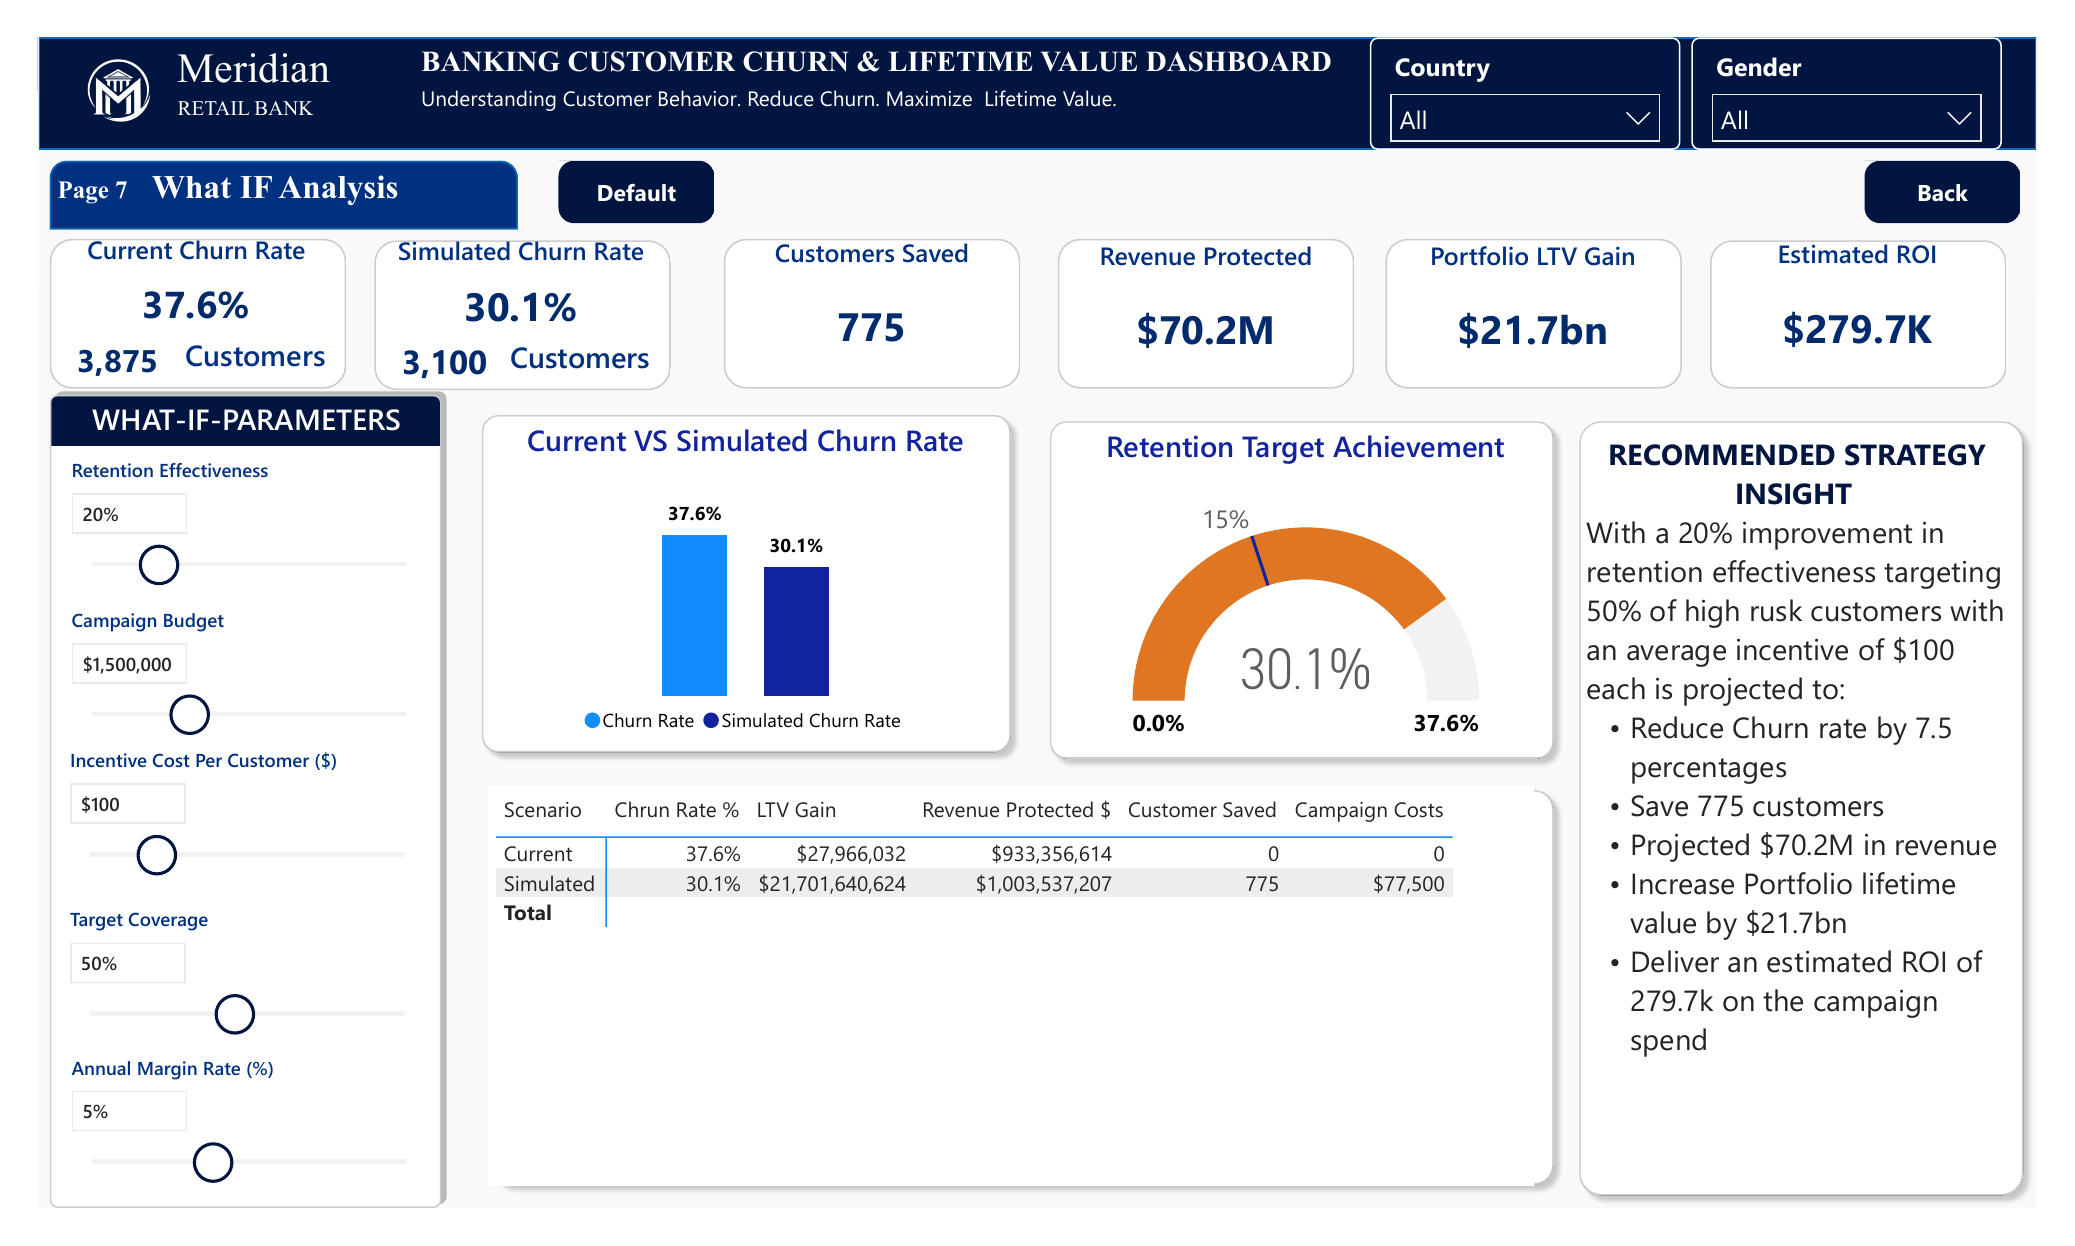

What the dashboard file says about the page in this screenshot:
{"tool":"powerbi","page":{"name":"What If Analysis","canvas":[1280,750],"ordinal":6},"visuals":[{"type":"shape","box":[885.2,237.8,382.5,472],"z":0},{"type":"shape","box":[0,0,1279.9,750],"z":1000},{"type":"shape","title":"WHAT-IF-PARAMETERS","box":[7.5,228.5,250.9,521.5],"z":2000},{"type":"shape","box":[7.2,129,189.9,95.8],"z":2001,"group":"g1"},{"type":"shape","box":[214.6,129.9,189.9,95.8],"z":2001,"group":"g2"},{"type":"cardVisual","title":"   Current Churn Rate ","fields":{"Data":["All Dax.Churn Rate","All Dax.Churned Customers"]},"box":[7.9,125,186.3,103],"z":2012,"group":"g1"},{"type":"cardVisual","title":"Simulated Churn Rate ","fields":{"Data":["What IF DAX.Simulated Churn Rate","What IF DAX.Simulated Churned Customers"]},"box":[215.3,125.9,186.3,103],"z":2012,"group":"g2"},{"type":"shape","box":[0,0,1279.7,71.6],"z":3000},{"type":"shape","box":[7.2,78.8,300,43.9],"z":4000},{"type":"cardVisual","fields":{"Data":["All Dax.Churned"]},"box":[482.7,129,170.1,95.8],"z":5000},{"type":"cardVisual","fields":{"Data":["All Dax.Churned"]},"box":[482.7,129,170.1,95.8],"z":6000},{"type":"shape","box":[438.8,129,189.9,95.8],"z":7000},{"type":"shape","box":[652.8,129,189.9,95.8],"z":8000},{"type":"shape","box":[863.3,129,189.9,95.8],"z":9000},{"type":"cardVisual","title":"Customers Saved","fields":{"Data":["What IF DAX.Customers Saved"]},"box":[438.8,127.2,189.9,95.8],"z":10000},{"type":"cardVisual","title":"Revenue Protected","fields":{"Data":["What IF DAX.Revenue Protected"]},"box":[652.8,129,189.9,95.8],"z":11000},{"type":"cardVisual","title":"Portfolio LTV Gain","fields":{"Data":["What IF DAX.Portfolio LTV Gain"]},"box":[862.9,128.7,189.4,96.1],"z":12000},{"type":"textbox","box":[7.2,78.8,287.5,43.9],"z":13000},{"type":"textbox","box":[240,0,613.4,35.8],"z":16000},{"type":"textbox","box":[240,25.1,615.2,35.8],"z":17000},{"type":"image","box":[0,0,102.1,71.6],"z":18000},{"type":"textbox","box":[84.2,0,130.7,71.6],"z":19000},{"type":"actionButton","box":[333.1,78.8,100,40],"z":21000},{"type":"actionButton","box":[1169.8,79,100.1,39.5],"z":22000},{"type":"slicer","fields":{"Values":["Retention Effectiveness.Retention Effectiveness"]},"box":[8.1,264.2,249.9,95.8],"z":23000},{"type":"slicer","fields":{"Values":["Campaign Budget.Campaign Budget"]},"box":[8.1,360,249.9,95.8],"z":24000},{"type":"slicer","fields":{"Values":["Target Coverage.[Target Coverage"]},"box":[7.2,551.6,249.9,95.8],"z":25000},{"type":"slicer","fields":{"Values":["Annual Margin Rate (%).Annual Margin Rate (%)"]},"box":[8.4,647.4,249.9,95.8],"z":26000},{"type":"slicer","fields":{"Values":["Incentive Cost Per Customer ($).Incentive Cost Per Customer ($)"]},"box":[7.5,449.6,249.9,95.8],"z":27000},{"type":"group","id":"g1","title":"Group 3","box":[7.2,125,189.9,103],"z":28000},{"type":"group","id":"g2","title":"Group 3","box":[214.6,125.9,190.3,102.6],"z":29000},{"type":"cardVisual","fields":{"Data":["What IF DAX.Portfolio LTV Gain"]},"box":[1070.9,129.7,189,95.8],"z":30000},{"type":"shape","box":[1070.9,129.7,189.9,95.8],"z":31000},{"type":"textbox","box":[89.6,185.6,104.5,36.4],"z":31000,"group":"g1"},{"type":"textbox","box":[297,186.5,104.5,36.4],"z":31000,"group":"g2"},{"type":"cardVisual","title":"Estimated ROI ","fields":{"Data":["What IF DAX.Estimated ROI"]},"box":[1070.9,127.8,189.4,96.1],"z":32000},{"type":"shape","box":[276.1,234.1,354.5,232.3],"z":33000},{"type":"clusteredColumnChart","title":"Current VS Simulated Churn Rate","fields":{"Y":["All Dax.Churn Rate","What IF DAX.Simulated Churn Rate"]},"box":[288.2,245.3,329.3,210.8],"z":34000},{"type":"shape","box":[639.9,237.9,338.6,232.3],"z":35000},{"type":"gauge","title":"Retention Target Achievement","fields":{"MaxValue":["All Dax.Churn Rate"],"TargetValue":["What IF DAX.Target Churn Rate"],"Y":["What IF DAX.Simulated Churn Rate"]},"box":[653,249.1,318.1,210.8],"z":36000},{"type":"shape","box":[978.5,237.9,301.3,512.1],"z":37000},{"type":"shape","box":[281.7,473.9,696.8,269.6],"z":38000},{"type":"pivotTable","fields":{"Rows":["Scenario.Scenario"],"Values":["Scenario.Scenario Chrun Rate","Scenario.Scenario LTV","Scenario.Scenario Revenue","Scenario.Scenario Customer Saved","Scenario.Scenario C Cost"]},"box":[288.2,480.4,669.8,255.6],"z":39000},{"type":"textbox","box":[987.1,249,280,486.5],"z":40000},{"type":"slicer","fields":{"Values":["DimGender.Gender"]},"box":[1058.9,0,199,71.7],"z":40001},{"type":"slicer","fields":{"Values":["DimGeography.Country"]},"box":[853.4,0,198.8,71.6],"z":40002}]}

Visuals, with their boxes on the page's 1280x750 design canvas (x1, y1, x2, y2). These are canvas units, not pixel positions in the 2075x1246 screenshot, which may show the page scaled, cropped or inside an application window:
shape: {"left": 885, "top": 238, "right": 1268, "bottom": 710}
shape: {"left": 0, "top": 0, "right": 1280, "bottom": 750}
"WHAT-IF-PARAMETERS" shape: {"left": 8, "top": 228, "right": 258, "bottom": 750}
shape: {"left": 7, "top": 129, "right": 197, "bottom": 225}
shape: {"left": 215, "top": 130, "right": 404, "bottom": 226}
"   Current Churn Rate " cardVisual: {"left": 8, "top": 125, "right": 194, "bottom": 228}
"Simulated Churn Rate " cardVisual: {"left": 215, "top": 126, "right": 402, "bottom": 229}
shape: {"left": 0, "top": 0, "right": 1280, "bottom": 72}
shape: {"left": 7, "top": 79, "right": 307, "bottom": 123}
cardVisual - All Dax.Churned: {"left": 483, "top": 129, "right": 653, "bottom": 225}
cardVisual - All Dax.Churned: {"left": 483, "top": 129, "right": 653, "bottom": 225}
shape: {"left": 439, "top": 129, "right": 629, "bottom": 225}
shape: {"left": 653, "top": 129, "right": 843, "bottom": 225}
shape: {"left": 863, "top": 129, "right": 1053, "bottom": 225}
"Customers Saved" cardVisual: {"left": 439, "top": 127, "right": 629, "bottom": 223}
"Revenue Protected" cardVisual: {"left": 653, "top": 129, "right": 843, "bottom": 225}
"Portfolio LTV Gain" cardVisual: {"left": 863, "top": 129, "right": 1052, "bottom": 225}
textbox: {"left": 7, "top": 79, "right": 295, "bottom": 123}
textbox: {"left": 240, "top": 0, "right": 853, "bottom": 36}
textbox: {"left": 240, "top": 25, "right": 855, "bottom": 61}
image: {"left": 0, "top": 0, "right": 102, "bottom": 72}
textbox: {"left": 84, "top": 0, "right": 215, "bottom": 72}
actionButton: {"left": 333, "top": 79, "right": 433, "bottom": 119}
actionButton: {"left": 1170, "top": 79, "right": 1270, "bottom": 118}
slicer - Retention Effectiveness.Retention Effectiveness: {"left": 8, "top": 264, "right": 258, "bottom": 360}
slicer - Campaign Budget.Campaign Budget: {"left": 8, "top": 360, "right": 258, "bottom": 456}
slicer - Target Coverage.[Target Coverage: {"left": 7, "top": 552, "right": 257, "bottom": 647}
slicer - Annual Margin Rate (%).Annual Margin Rate (%): {"left": 8, "top": 647, "right": 258, "bottom": 743}
slicer - Incentive Cost Per Customer ($).Incentive Cost Per Customer ($): {"left": 8, "top": 450, "right": 257, "bottom": 545}
"Group 3" group: {"left": 7, "top": 125, "right": 197, "bottom": 228}
"Group 3" group: {"left": 215, "top": 126, "right": 405, "bottom": 228}
cardVisual - What IF DAX.Portfolio LTV Gain: {"left": 1071, "top": 130, "right": 1260, "bottom": 226}
shape: {"left": 1071, "top": 130, "right": 1261, "bottom": 226}
textbox: {"left": 90, "top": 186, "right": 194, "bottom": 222}
textbox: {"left": 297, "top": 186, "right": 402, "bottom": 223}
"Estimated ROI " cardVisual: {"left": 1071, "top": 128, "right": 1260, "bottom": 224}
shape: {"left": 276, "top": 234, "right": 631, "bottom": 466}
"Current VS Simulated Churn Rate" clusteredColumnChart: {"left": 288, "top": 245, "right": 618, "bottom": 456}
shape: {"left": 640, "top": 238, "right": 978, "bottom": 470}
"Retention Target Achievement" gauge: {"left": 653, "top": 249, "right": 971, "bottom": 460}
shape: {"left": 978, "top": 238, "right": 1280, "bottom": 750}
shape: {"left": 282, "top": 474, "right": 978, "bottom": 744}
pivotTable - Scenario.Scenario x Scenario.Scenario Chrun Rate: {"left": 288, "top": 480, "right": 958, "bottom": 736}
textbox: {"left": 987, "top": 249, "right": 1267, "bottom": 736}
slicer - DimGender.Gender: {"left": 1059, "top": 0, "right": 1258, "bottom": 72}
slicer - DimGeography.Country: {"left": 853, "top": 0, "right": 1052, "bottom": 72}
